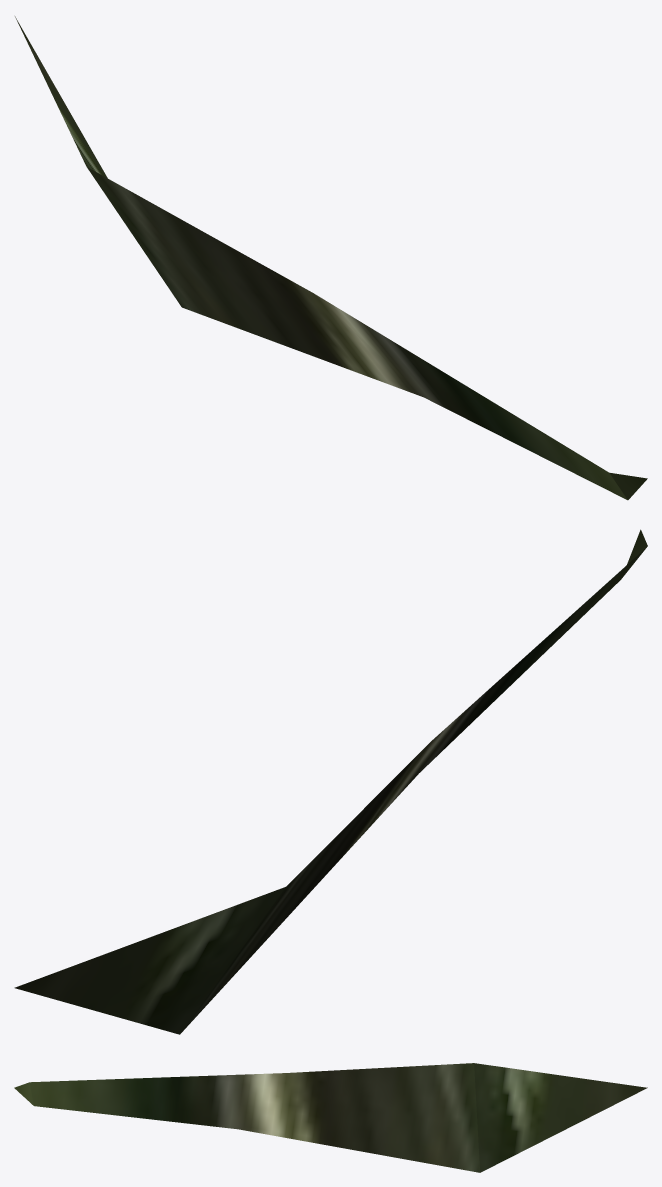
The picture shows the model from 3 angles, top to bottom: view 1: azimuth 30°, elevation 25°; view 2: azimuth 150°, elevation 25°; view 3: azimuth 270°, elevation 25°; orthographic projection. The views are drawn at different scales.
Bounding box in the file's own units: 0.0944 × 0.1513 × 1.02.
1 material, 1 textured.
